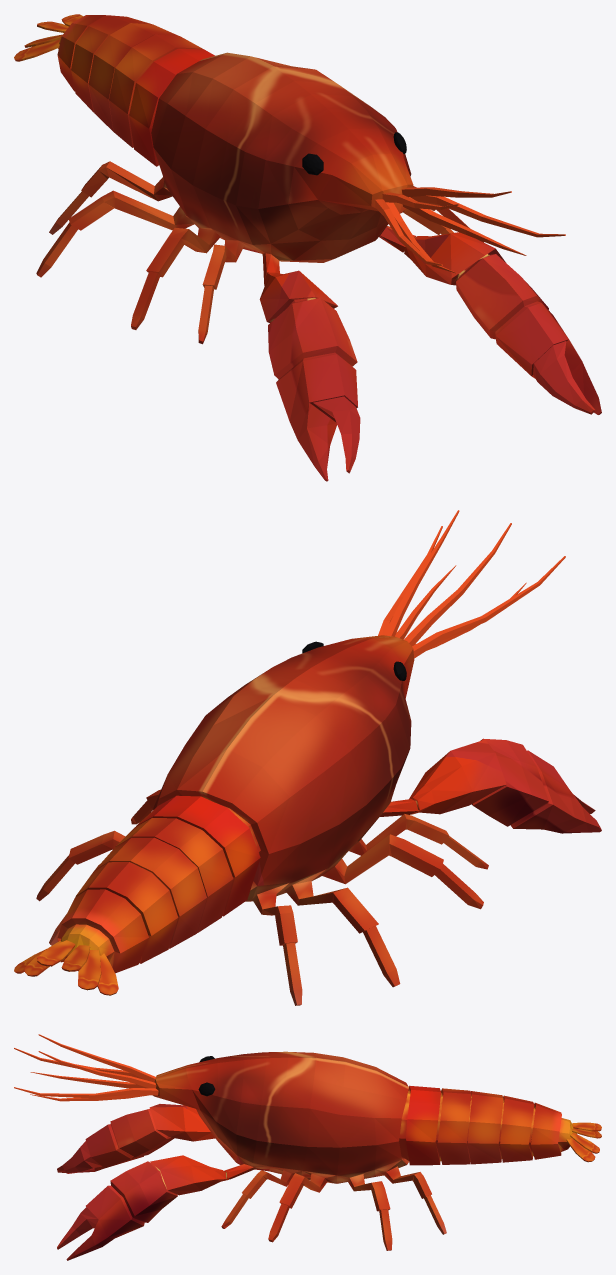
File: crayfish.obj
3 views of the same model, one above another, from view 1: azimuth 30°, elevation 25°; view 2: azimuth 150°, elevation 25°; view 3: azimuth 270°, elevation 25° (orthographic). The views are drawn at different scales.
Size of the model in its own units: 6.84 by 4.8 by 14.64.
Materials: 4 (2 with a texture image).
